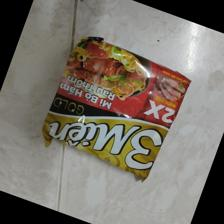3mien: (39, 36, 193, 184)
